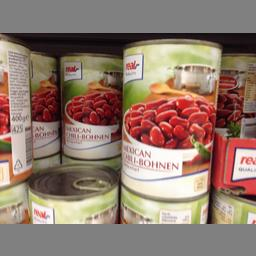beans: (118, 36, 220, 198), (57, 49, 120, 159)
